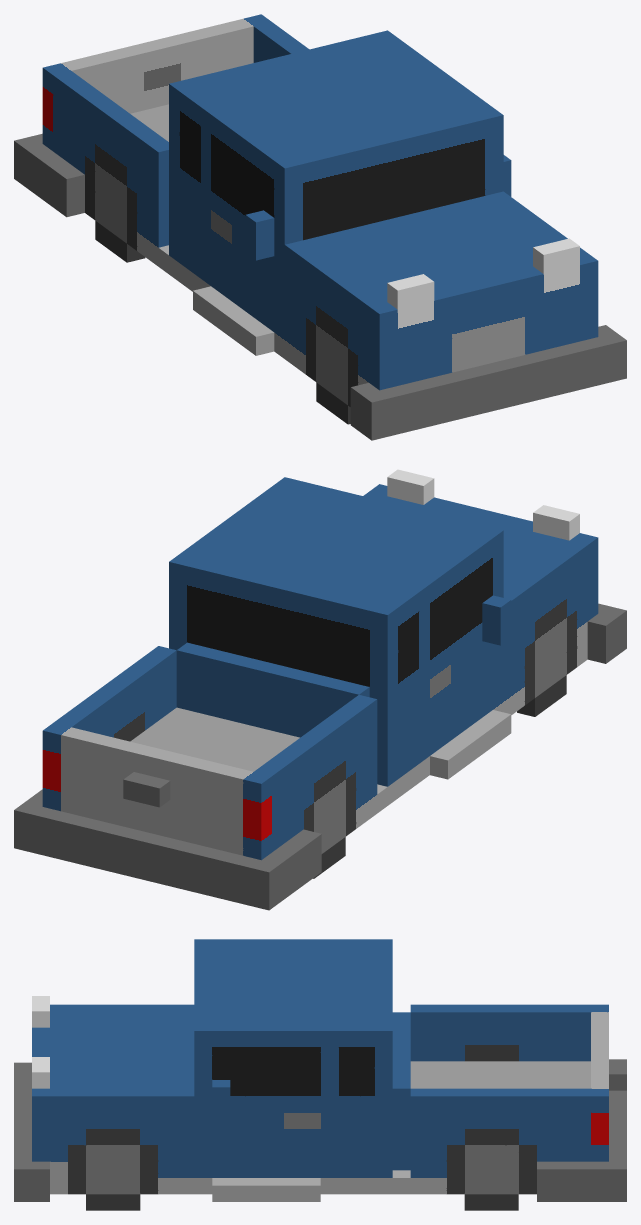
File: veh_truck6.dae
The picture shows the model from 3 angles, top to bottom: view 1: azimuth 30°, elevation 25°; view 2: azimuth 150°, elevation 25°; view 3: azimuth 270°, elevation 25°; orthographic projection. The views are drawn at different scales.
Parts seen in each view (by area): view 1: veh_truck6; view 2: veh_truck6; view 3: veh_truck6.
Part boxes in pixels (x1,y1,x2,y2): veh_truck6: (14,14,626,440); veh_truck6: (14,469,626,910); veh_truck6: (14,939,626,1210).
Size of the model in its own units: 1.4 by 3.4 by 1.1.
1 material, 1 textured.
